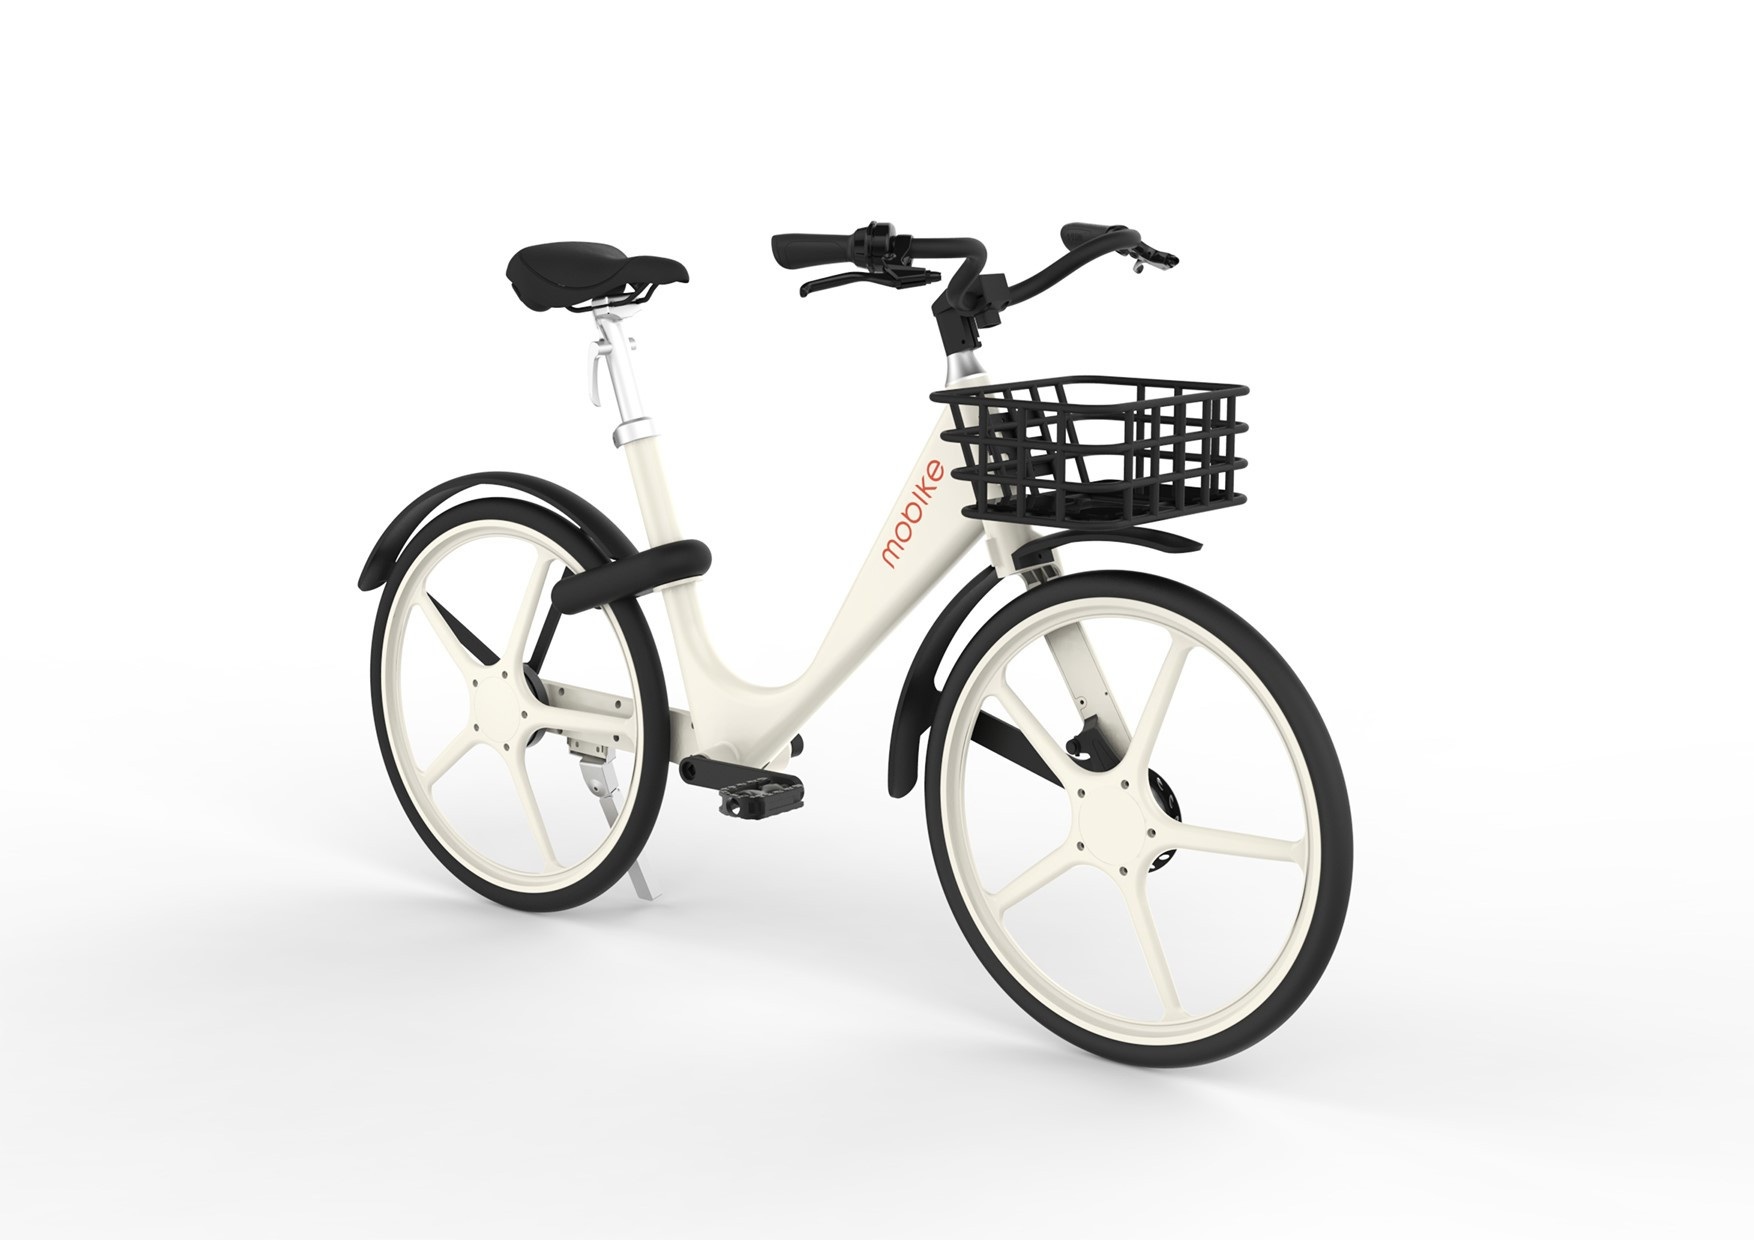MNV: (364, 223, 1357, 1068)
